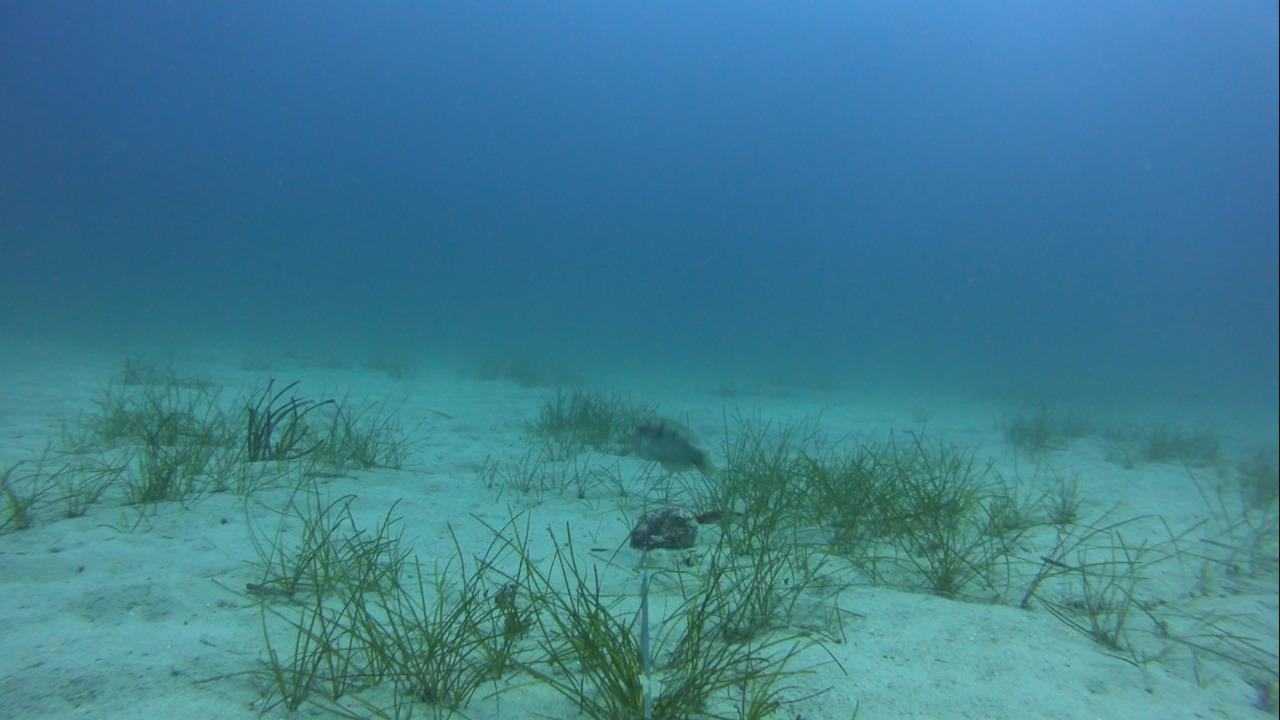raor: (621, 415, 719, 481)
